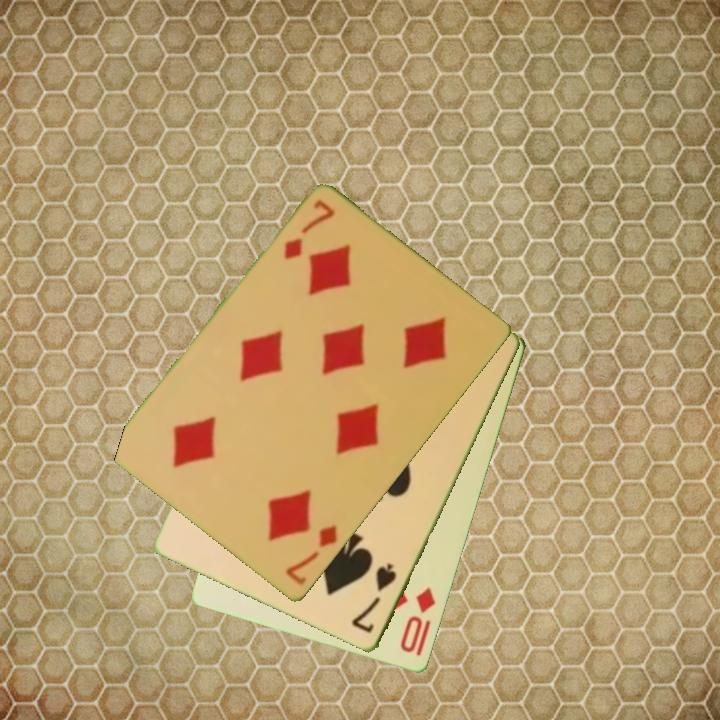10d: (397, 584, 439, 660)
7d: (282, 522, 341, 589), (280, 196, 338, 264)
7s: (348, 560, 400, 637)
